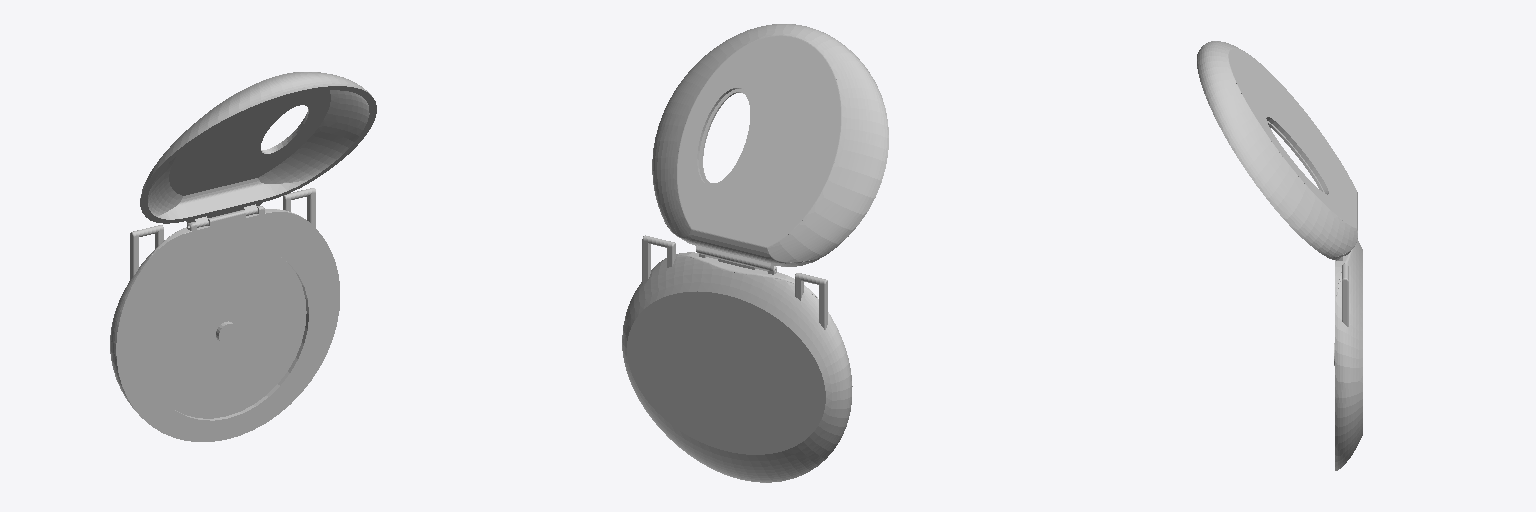
File: cd_player.obj
The picture shows the model from 3 angles: view 1: azimuth 30°, elevation 25°; view 2: azimuth 150°, elevation 25°; view 3: azimuth 270°, elevation 25°; orthographic projection.
Visible parts, largest first — view 1: Body1, Body1:1; view 2: Body1:1, Body1; view 3: Body1:1, Body1.
Part boxes in pixels (left/top/right/bottom): Body1: left=110, top=188, right=339, bottom=441; Body1:1: left=140, top=72, right=376, bottom=227; Body1:1: left=652, top=24, right=888, bottom=271; Body1: left=622, top=235, right=852, bottom=482; Body1:1: left=1197, top=41, right=1357, bottom=259; Body1: left=1334, top=239, right=1362, bottom=470.
Size of the model in its own units: 18.21 by 31.27 by 11.59.